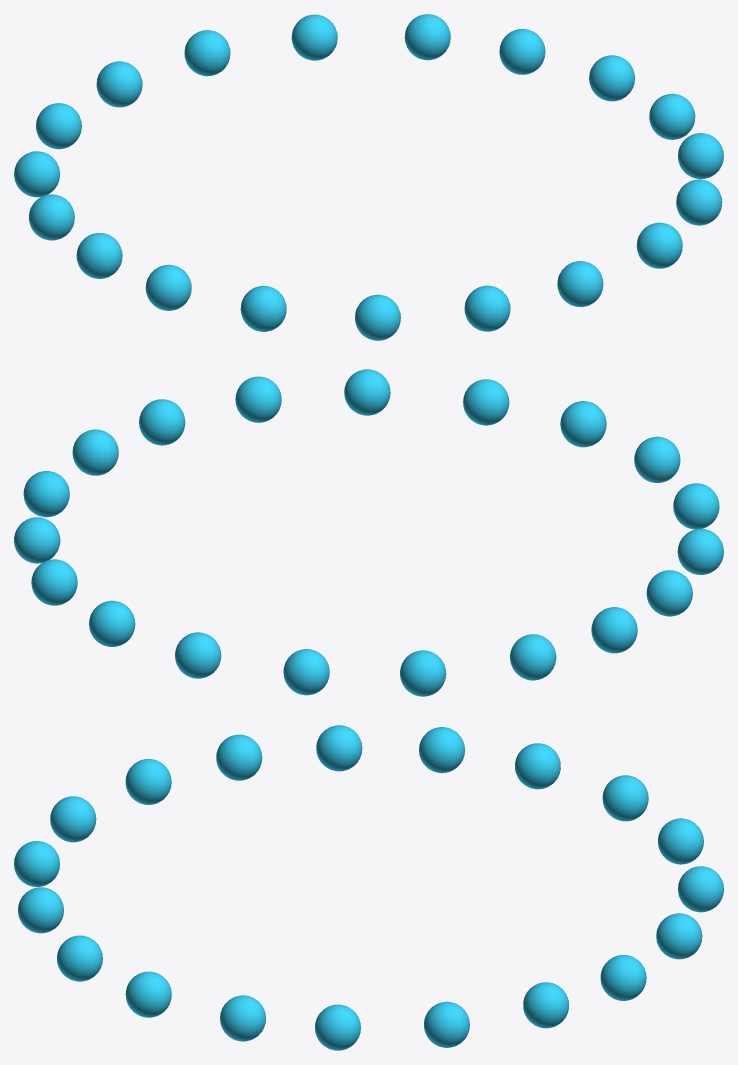
3 renders of one model, top to bottom at view 1: azimuth 30°, elevation 25°; view 2: azimuth 150°, elevation 25°; view 3: azimuth 270°, elevation 25°, orthographic.
Parts seen in each view (by area): view 1: Sphere048; view 2: Sphere048; view 3: Sphere048.
Boxes of the visible parts, bbox=[...] form: Sphere048: bbox=[14, 14, 723, 340]; Sphere048: bbox=[14, 369, 723, 696]; Sphere048: bbox=[14, 725, 723, 1050].
Bounding box in the file's own units: 126 × 8.22 × 126.
